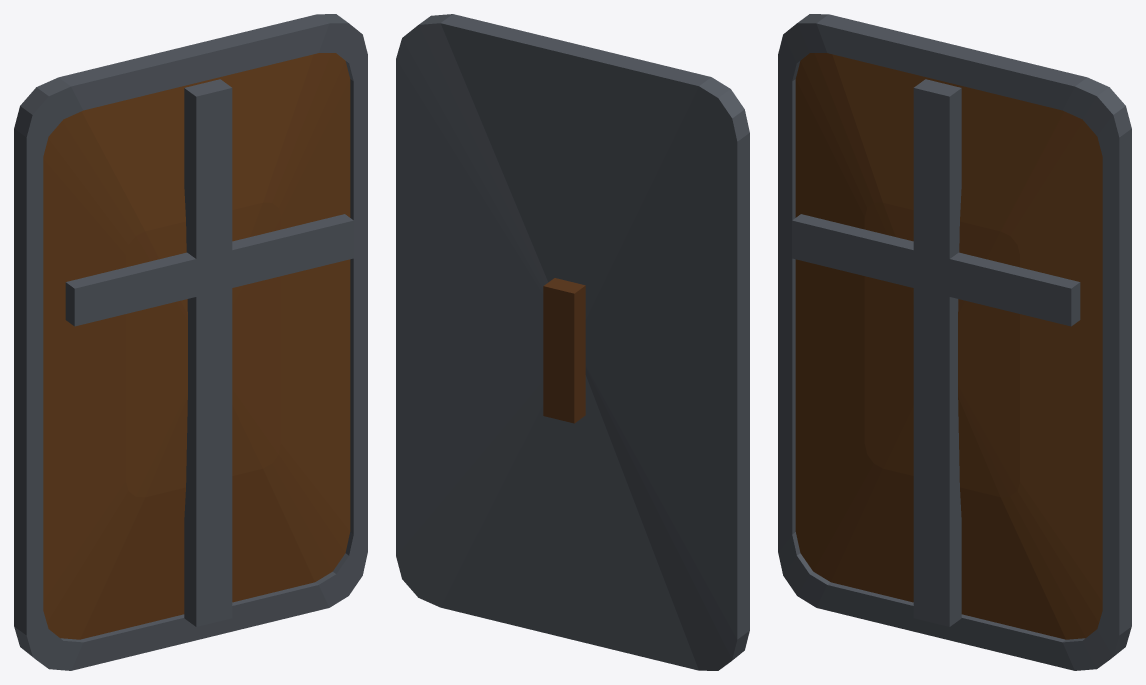
File: shield_tower_common.glb
The picture shows the model from 3 angles, left to right: view 1: azimuth 30°, elevation 25°; view 2: azimuth 150°, elevation 25°; view 3: azimuth 330°, elevation 25°; orthographic projection.
Parts seen in each view (by area): view 1: shield_tower_common_export; view 2: shield_tower_common_export; view 3: shield_tower_common_export.
Boxes of the visible parts, bbox=[...] form: shield_tower_common_export: bbox=[14, 14, 367, 670]; shield_tower_common_export: bbox=[396, 14, 749, 670]; shield_tower_common_export: bbox=[778, 14, 1131, 670].
Bounding box in the file's own units: 66 × 108 × 12.5.
